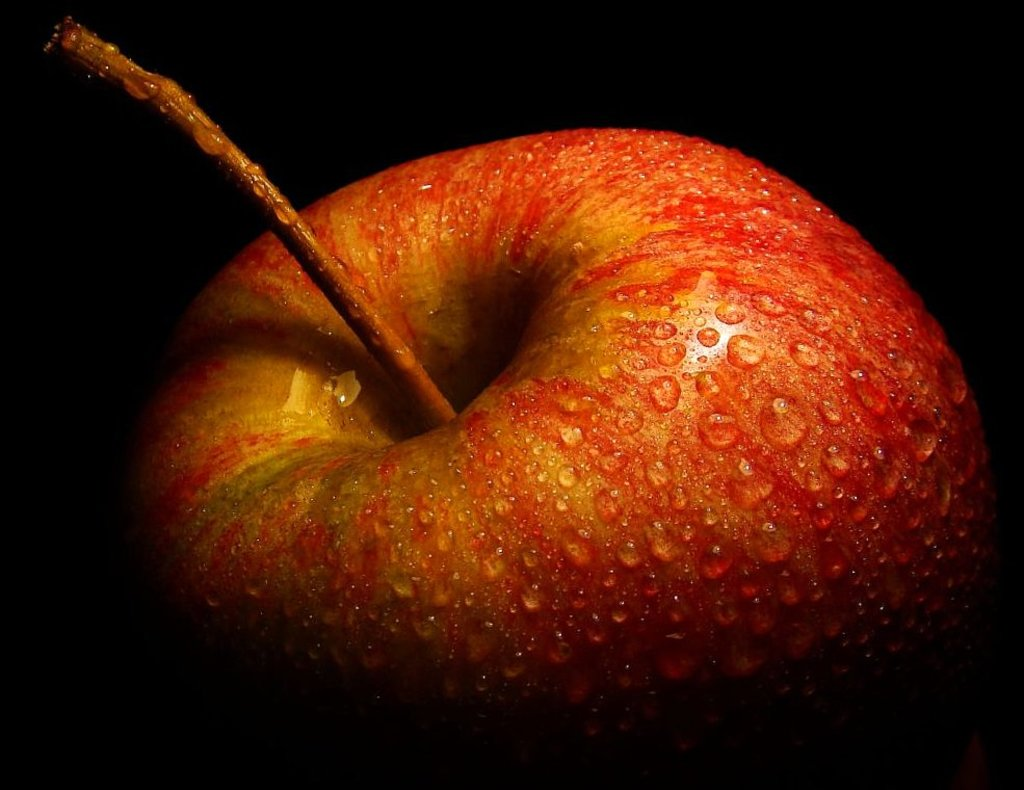Apple: (156, 87, 1024, 778)
